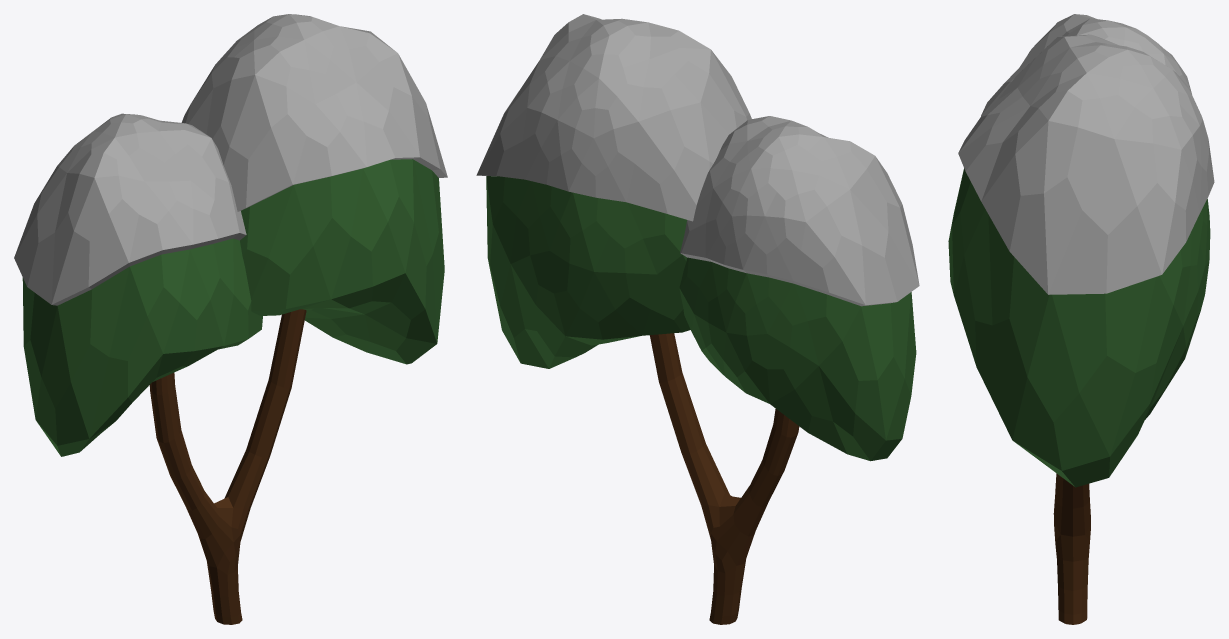
The model's file is Tree4.obj.
3 views of the same model, side by side, from view 1: azimuth 30°, elevation 25°; view 2: azimuth 150°, elevation 25°; view 3: azimuth 270°, elevation 25° (orthographic). The views are drawn at different scales.
Visible parts, largest first — view 1: Tree4_Cylinder.015; view 2: Tree4_Cylinder.015; view 3: Tree4_Cylinder.015.
Part boxes in pixels (x1=…): Tree4_Cylinder.015: x1=14, y1=14, x2=447, y2=624; Tree4_Cylinder.015: x1=476, y1=14, x2=919, y2=624; Tree4_Cylinder.015: x1=948, y1=14, x2=1214, y2=624.
Bounding box in the file's own units: 5.22 × 7.19 × 2.81.
